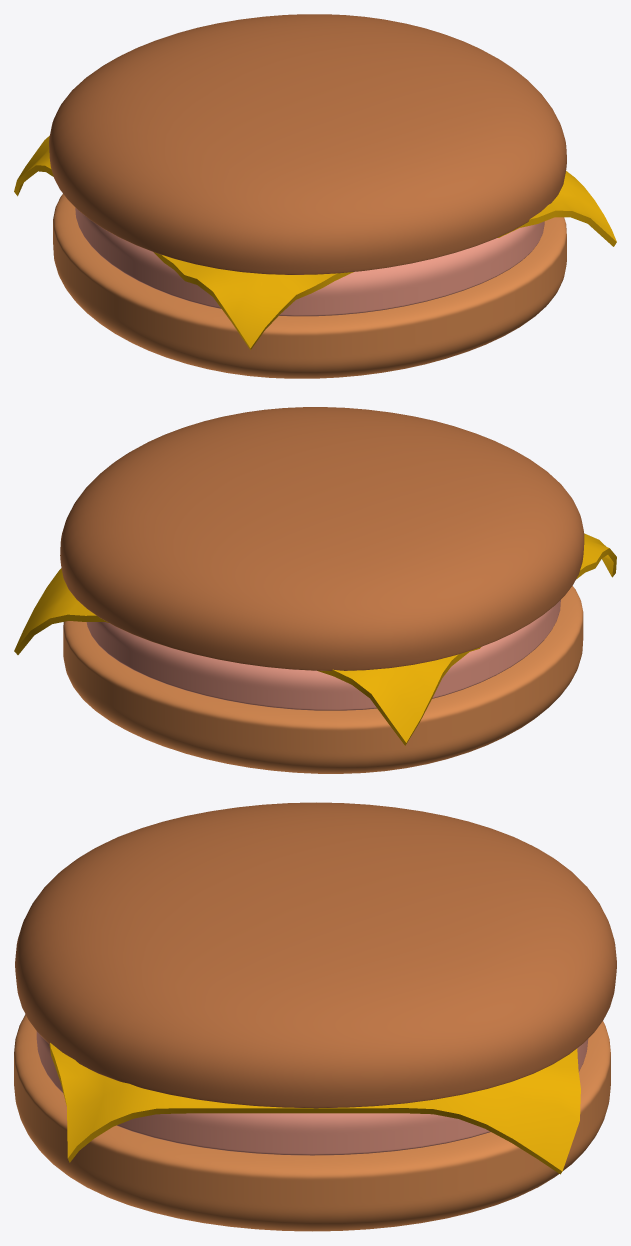
Rendered from hamburger.glb.
3 views of the same model, one above another, from view 1: azimuth 30°, elevation 25°; view 2: azimuth 150°, elevation 25°; view 3: azimuth 270°, elevation 25° (orthographic). The views are drawn at different scales.
Visible parts, largest first — view 1: Cube.002, Cube, Cube.001, Plane; view 2: Cube.002, Cube, Cube.001, Plane; view 3: Cube.002, Cube, Plane, Cube.001.
Boxes of the visible parts, box(x1,y1,x2,y2) form: Cube.002: box(49, 14, 566, 274); Cube: box(53, 194, 566, 378); Cube.001: box(75, 208, 544, 316); Plane: box(14, 135, 616, 349); Cube.002: box(60, 407, 584, 670); Cube: box(63, 586, 583, 773); Cube.001: box(86, 600, 560, 710); Plane: box(14, 533, 616, 745); Cube.002: box(15, 802, 616, 1108); Cube: box(14, 1014, 610, 1231); Plane: box(49, 1043, 580, 1174); Cube.001: box(36, 1031, 588, 1155).
Bounding box in the file's own units: 9.27 × 4.46 × 9.29.
